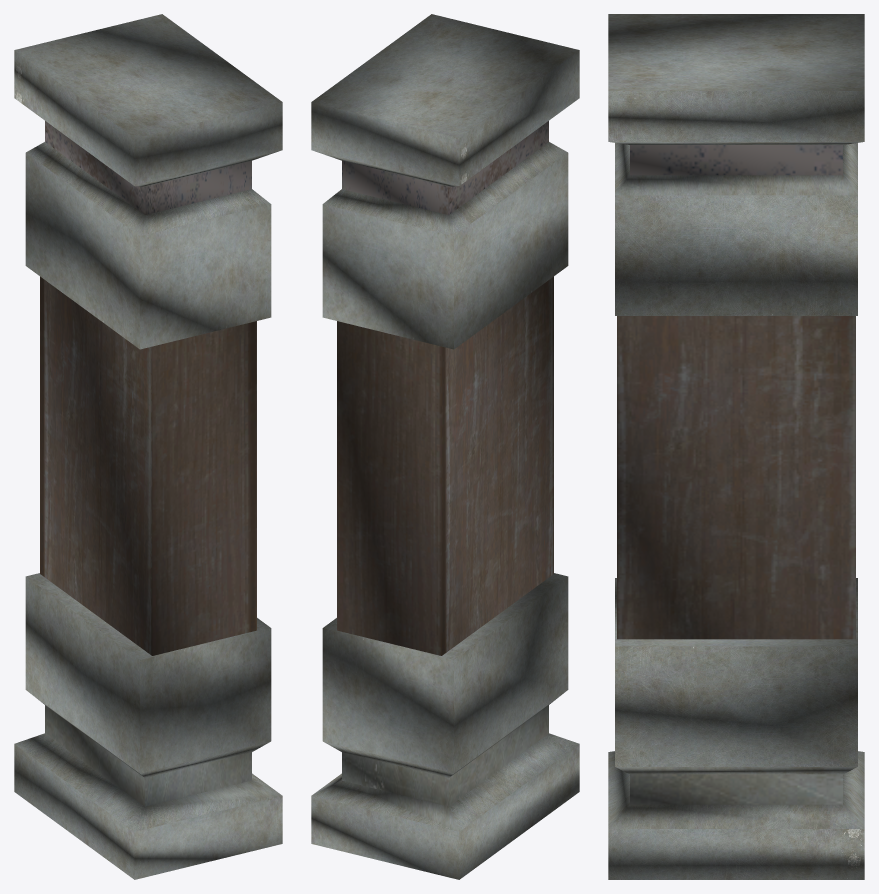
Rendered from Ob_BridgeScaf_RC.fbx.
3 renders of one model, left to right at view 1: azimuth 30°, elevation 25°; view 2: azimuth 150°, elevation 25°; view 3: azimuth 270°, elevation 25°, orthographic. The views are drawn at different scales.
Parts seen in each view (by area): view 1: Ob_BridgeScaf_RC; view 2: Ob_BridgeScaf_RC; view 3: Ob_BridgeScaf_RC.
Boxes of the visible parts, left/top/right/bottom form: Ob_BridgeScaf_RC: left=14, top=14, right=282, bottom=879; Ob_BridgeScaf_RC: left=311, top=14, right=579, bottom=879; Ob_BridgeScaf_RC: left=608, top=14, right=864, bottom=879.
Size of the model in its own units: 104 by 499 by 147.
